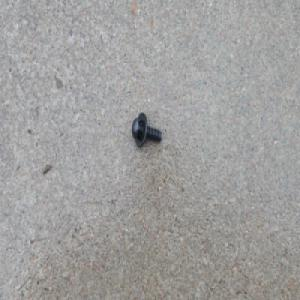BoltWasher: (130, 112, 161, 149)
